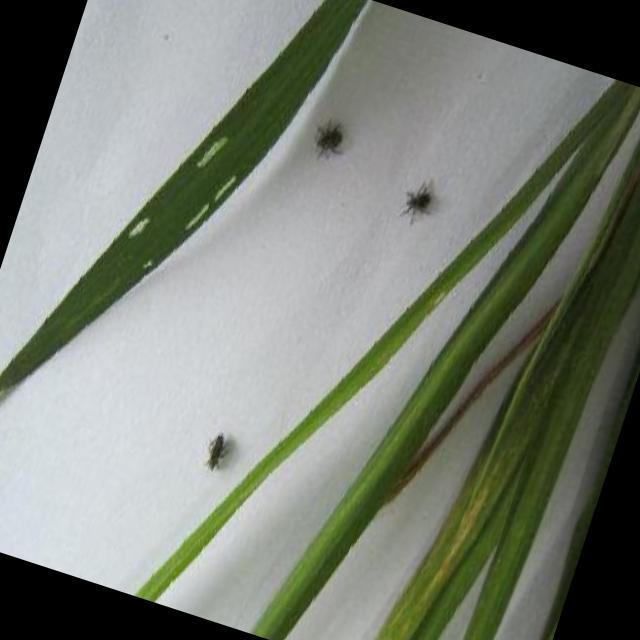rice-bug: (306, 110, 352, 170), (395, 173, 439, 233), (194, 423, 238, 479)
